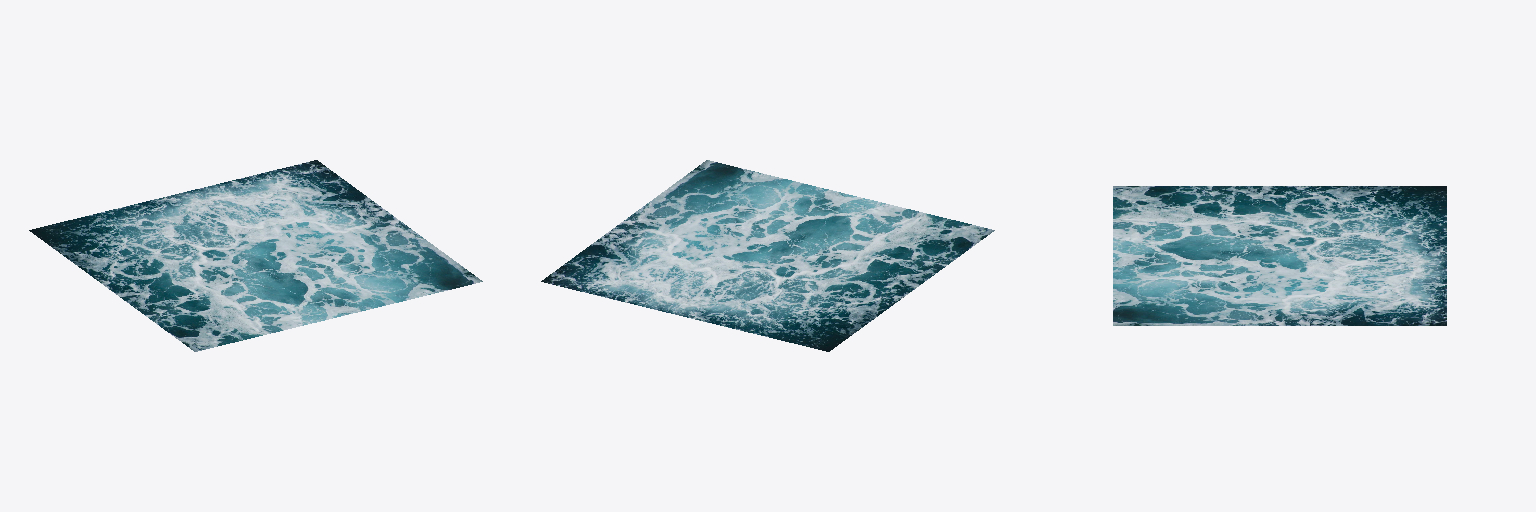
3 renders of one model, left to right at view 1: azimuth 30°, elevation 25°; view 2: azimuth 150°, elevation 25°; view 3: azimuth 270°, elevation 25°, orthographic.
Visible parts, largest first — view 1: Plane.005_Plane.009; view 2: Plane.005_Plane.009; view 3: Plane.005_Plane.009.
Part boxes in pixels (x1,y1,x2,y2): Plane.005_Plane.009: (29, 160, 482, 351); Plane.005_Plane.009: (541, 160, 994, 351); Plane.005_Plane.009: (1113, 186, 1446, 325).
Bounding box in the file's own units: 9.76 × 0 × 9.76.
1 materials, 1 textured.